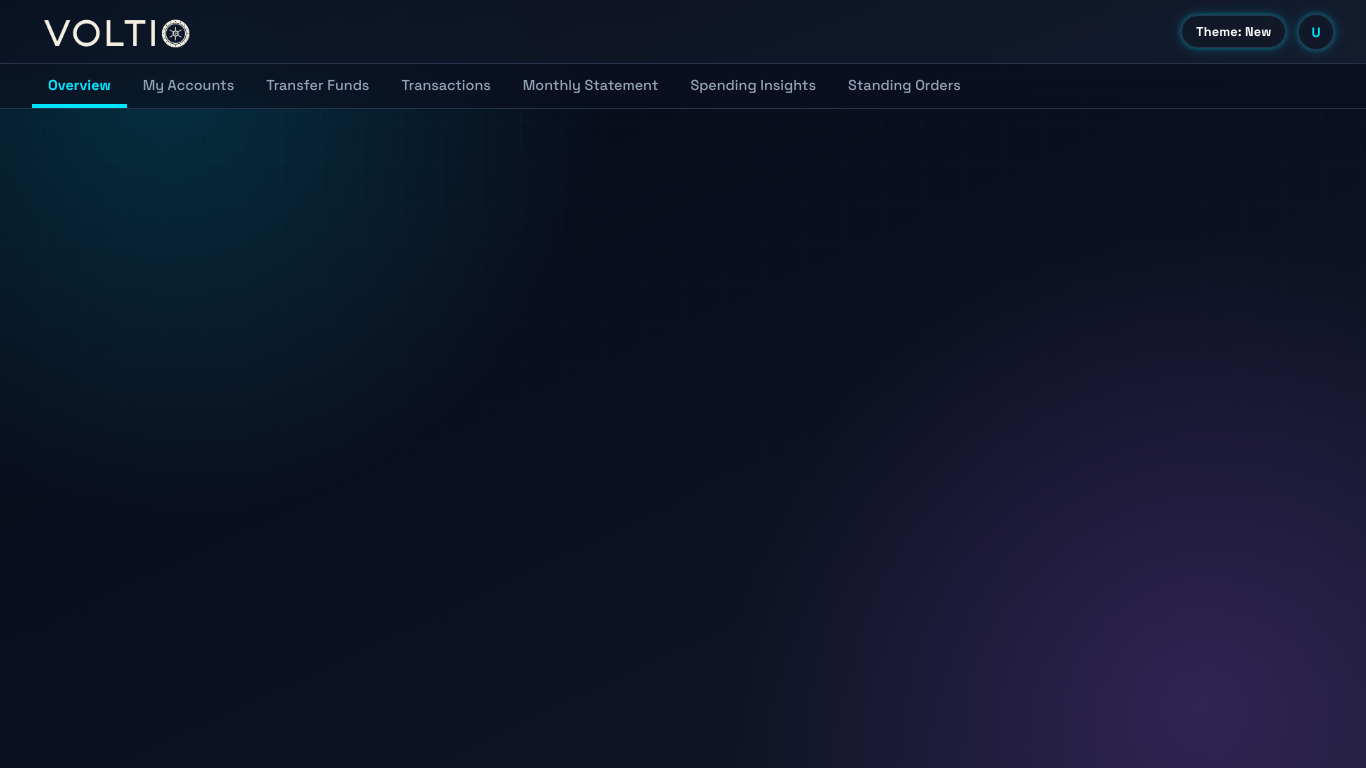
Test: Navbar and Sub-Navbar (AppLayout) › feature nav buttons — no active account (opens account picker) › shows a loading state in the picker while accounts are fetching
Click the button "Spending Insights".
click(753, 86)  # box [674,64,832,108]
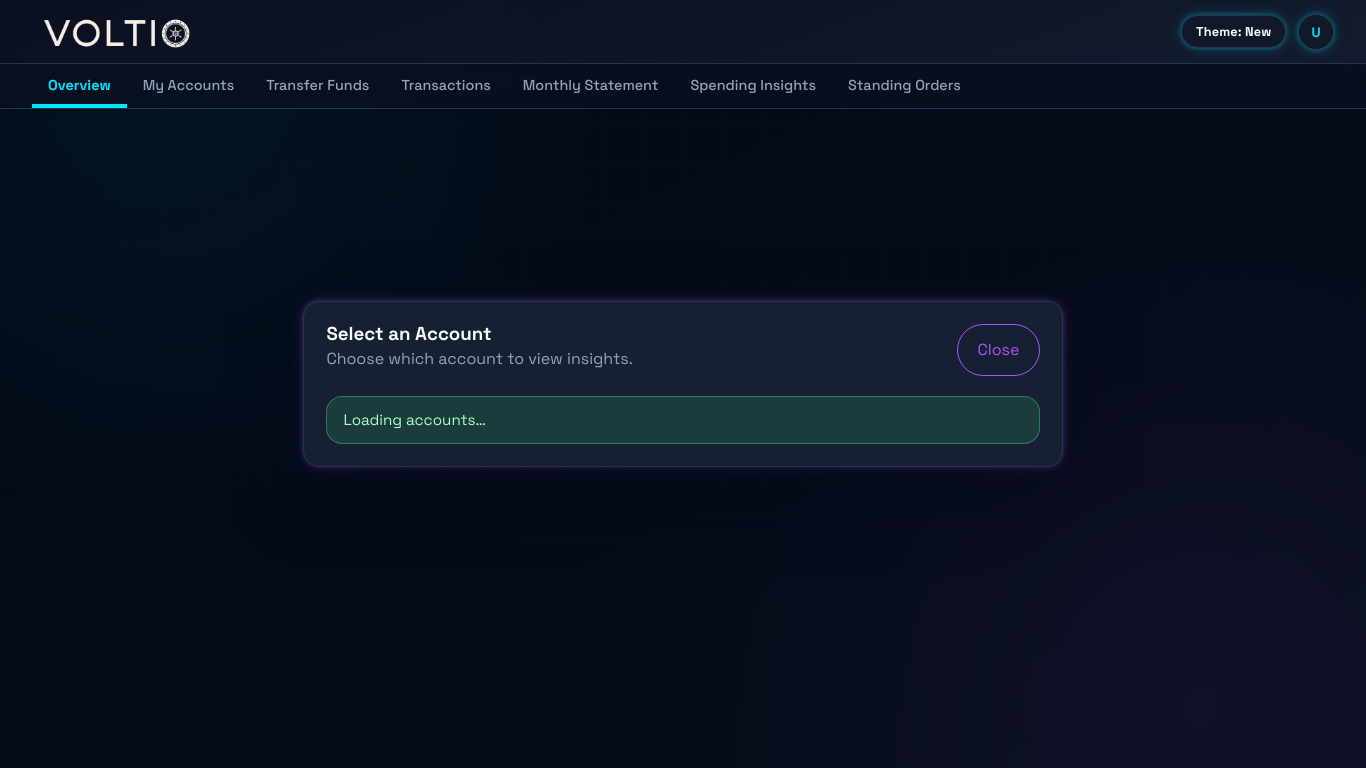
Expected: the text "Loading accounts…" is shown, [326,396,1040,444]
